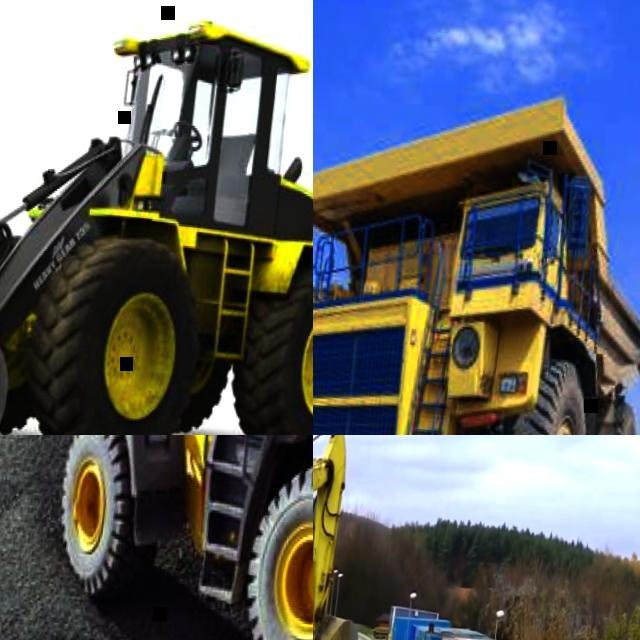machinery: (0, 0, 313, 435), (313, 65, 640, 435), (0, 435, 313, 640), (313, 435, 383, 640)
